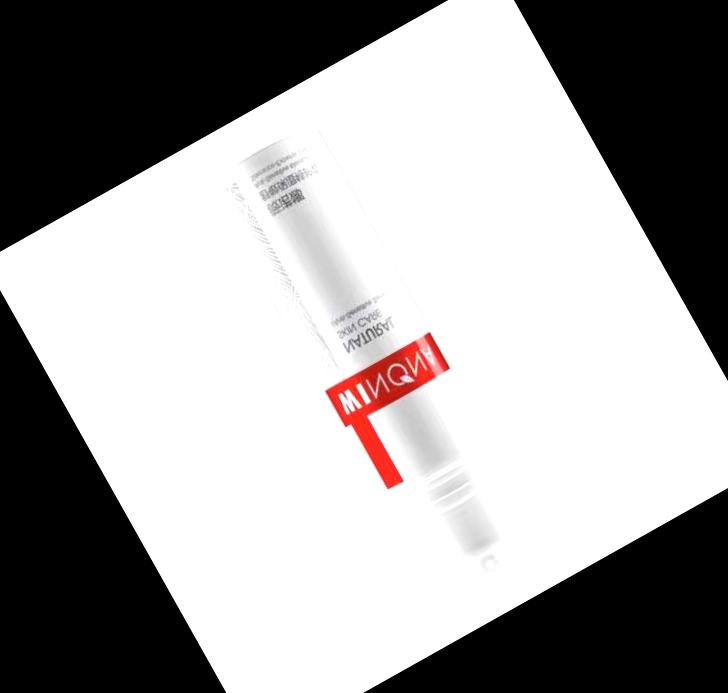cosmetic: (202, 117, 557, 614)
